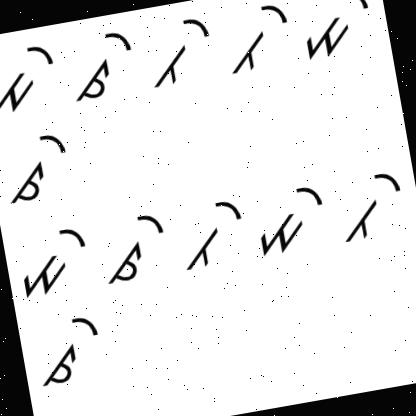bay: (169, 189, 252, 283), (218, 0, 302, 82), (330, 164, 410, 250), (138, 11, 218, 91)
cay: (0, 123, 81, 212), (28, 306, 108, 394), (60, 24, 143, 106), (92, 204, 173, 287)
may: (244, 175, 334, 265), (8, 213, 93, 299), (292, 0, 377, 65), (0, 41, 67, 121)
